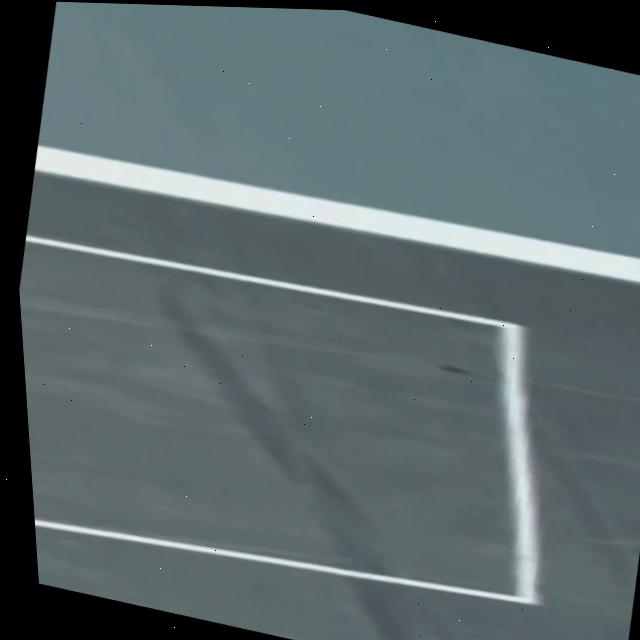left: (35, 144, 640, 281)
